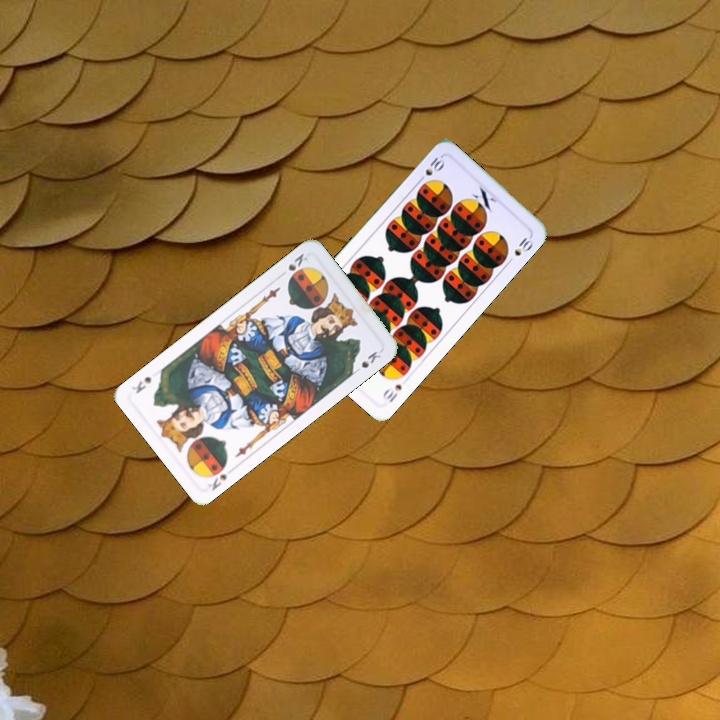S10: (414, 152, 447, 185), (379, 380, 404, 405)
SK: (275, 249, 310, 280), (204, 469, 230, 493)
